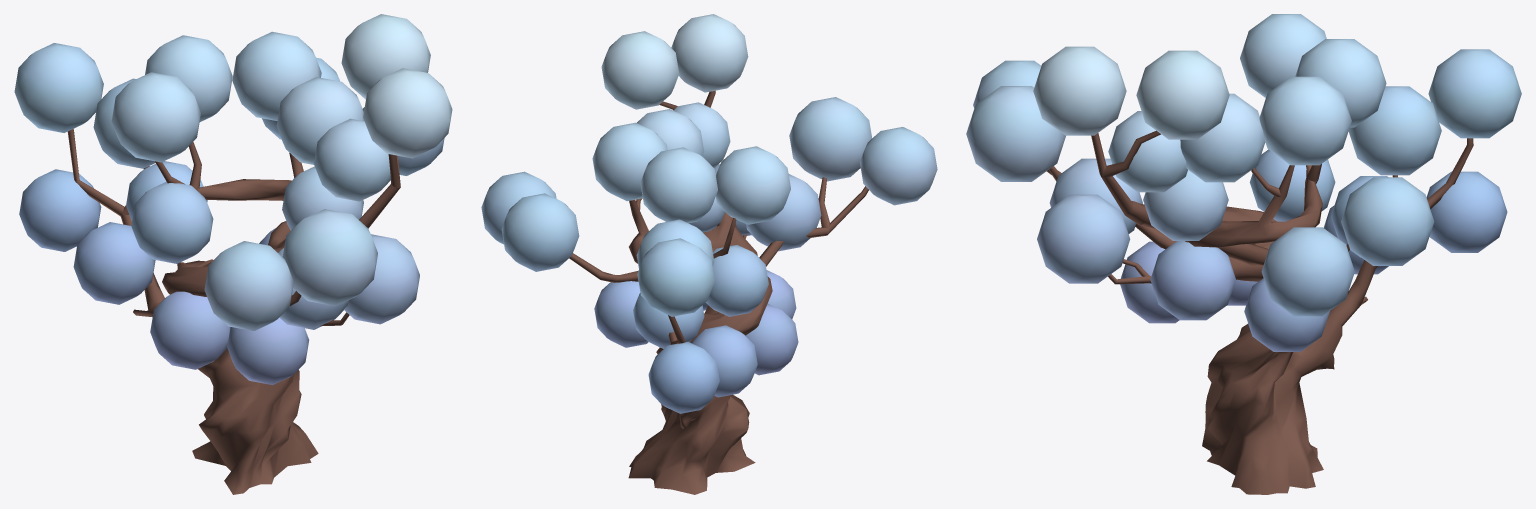
Rendered from snow_tree.glb.
3 views of the same model, side by side, from view 1: azimuth 30°, elevation 25°; view 2: azimuth 150°, elevation 25°; view 3: azimuth 270°, elevation 25° (orthographic). The views are drawn at different scales.
Visible parts, largest first — view 1: snow_tree; view 2: snow_tree; view 3: snow_tree.
Boxes of the visible parts, x1,y1,x2,y2 form: snow_tree: (14,14,452,494); snow_tree: (481,14,937,494); snow_tree: (966,14,1521,494).
Bounding box in the file's own units: 4.32 × 5.04 × 5.52.
Materials: 1 (1 with a texture image).
